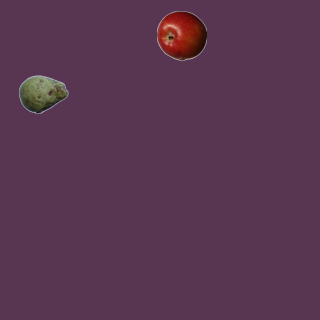Apple Braeburn: (156, 10, 206, 60)
Pear Stone: (18, 69, 68, 119)
